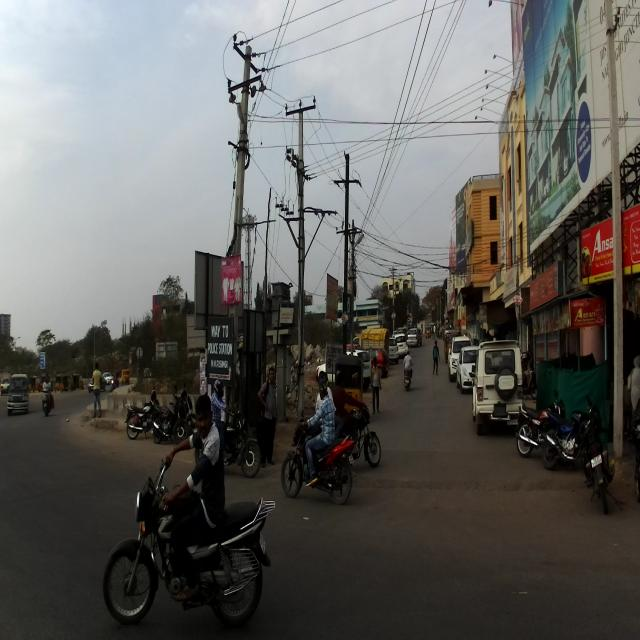electric pole ahead at: (608, 0, 628, 457)
motorcycle ahead at: (104, 462, 274, 640), (282, 412, 356, 519), (574, 408, 614, 515)
